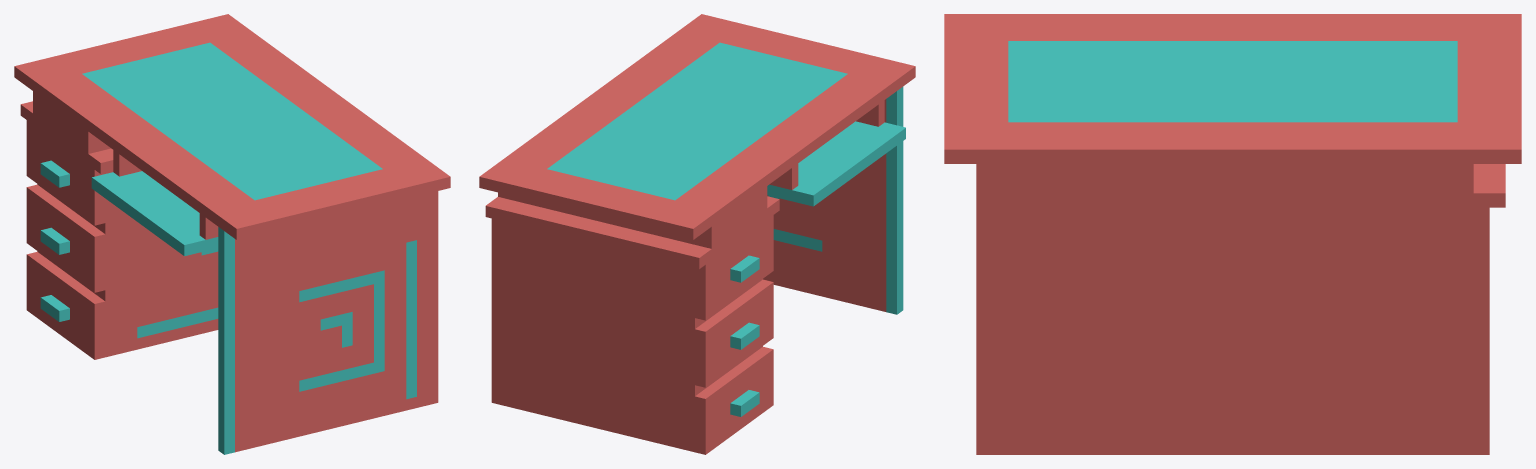
Rendered from desk.obj.
3 views of the same model, side by side, from view 1: azimuth 30°, elevation 25°; view 2: azimuth 150°, elevation 25°; view 3: azimuth 270°, elevation 25° (orthographic). The views are drawn at different scales.
Parts seen in each view (by area): view 1: desk; view 2: desk; view 3: desk.
Part boxes in pixels (x1=…): desk: x1=14, y1=14, x2=450, y2=454; desk: x1=479, y1=14, x2=915, y2=454; desk: x1=944, y1=14, x2=1521, y2=454.
Size of the model in its own units: 22 by 21 by 36.
1 material, 1 textured.
